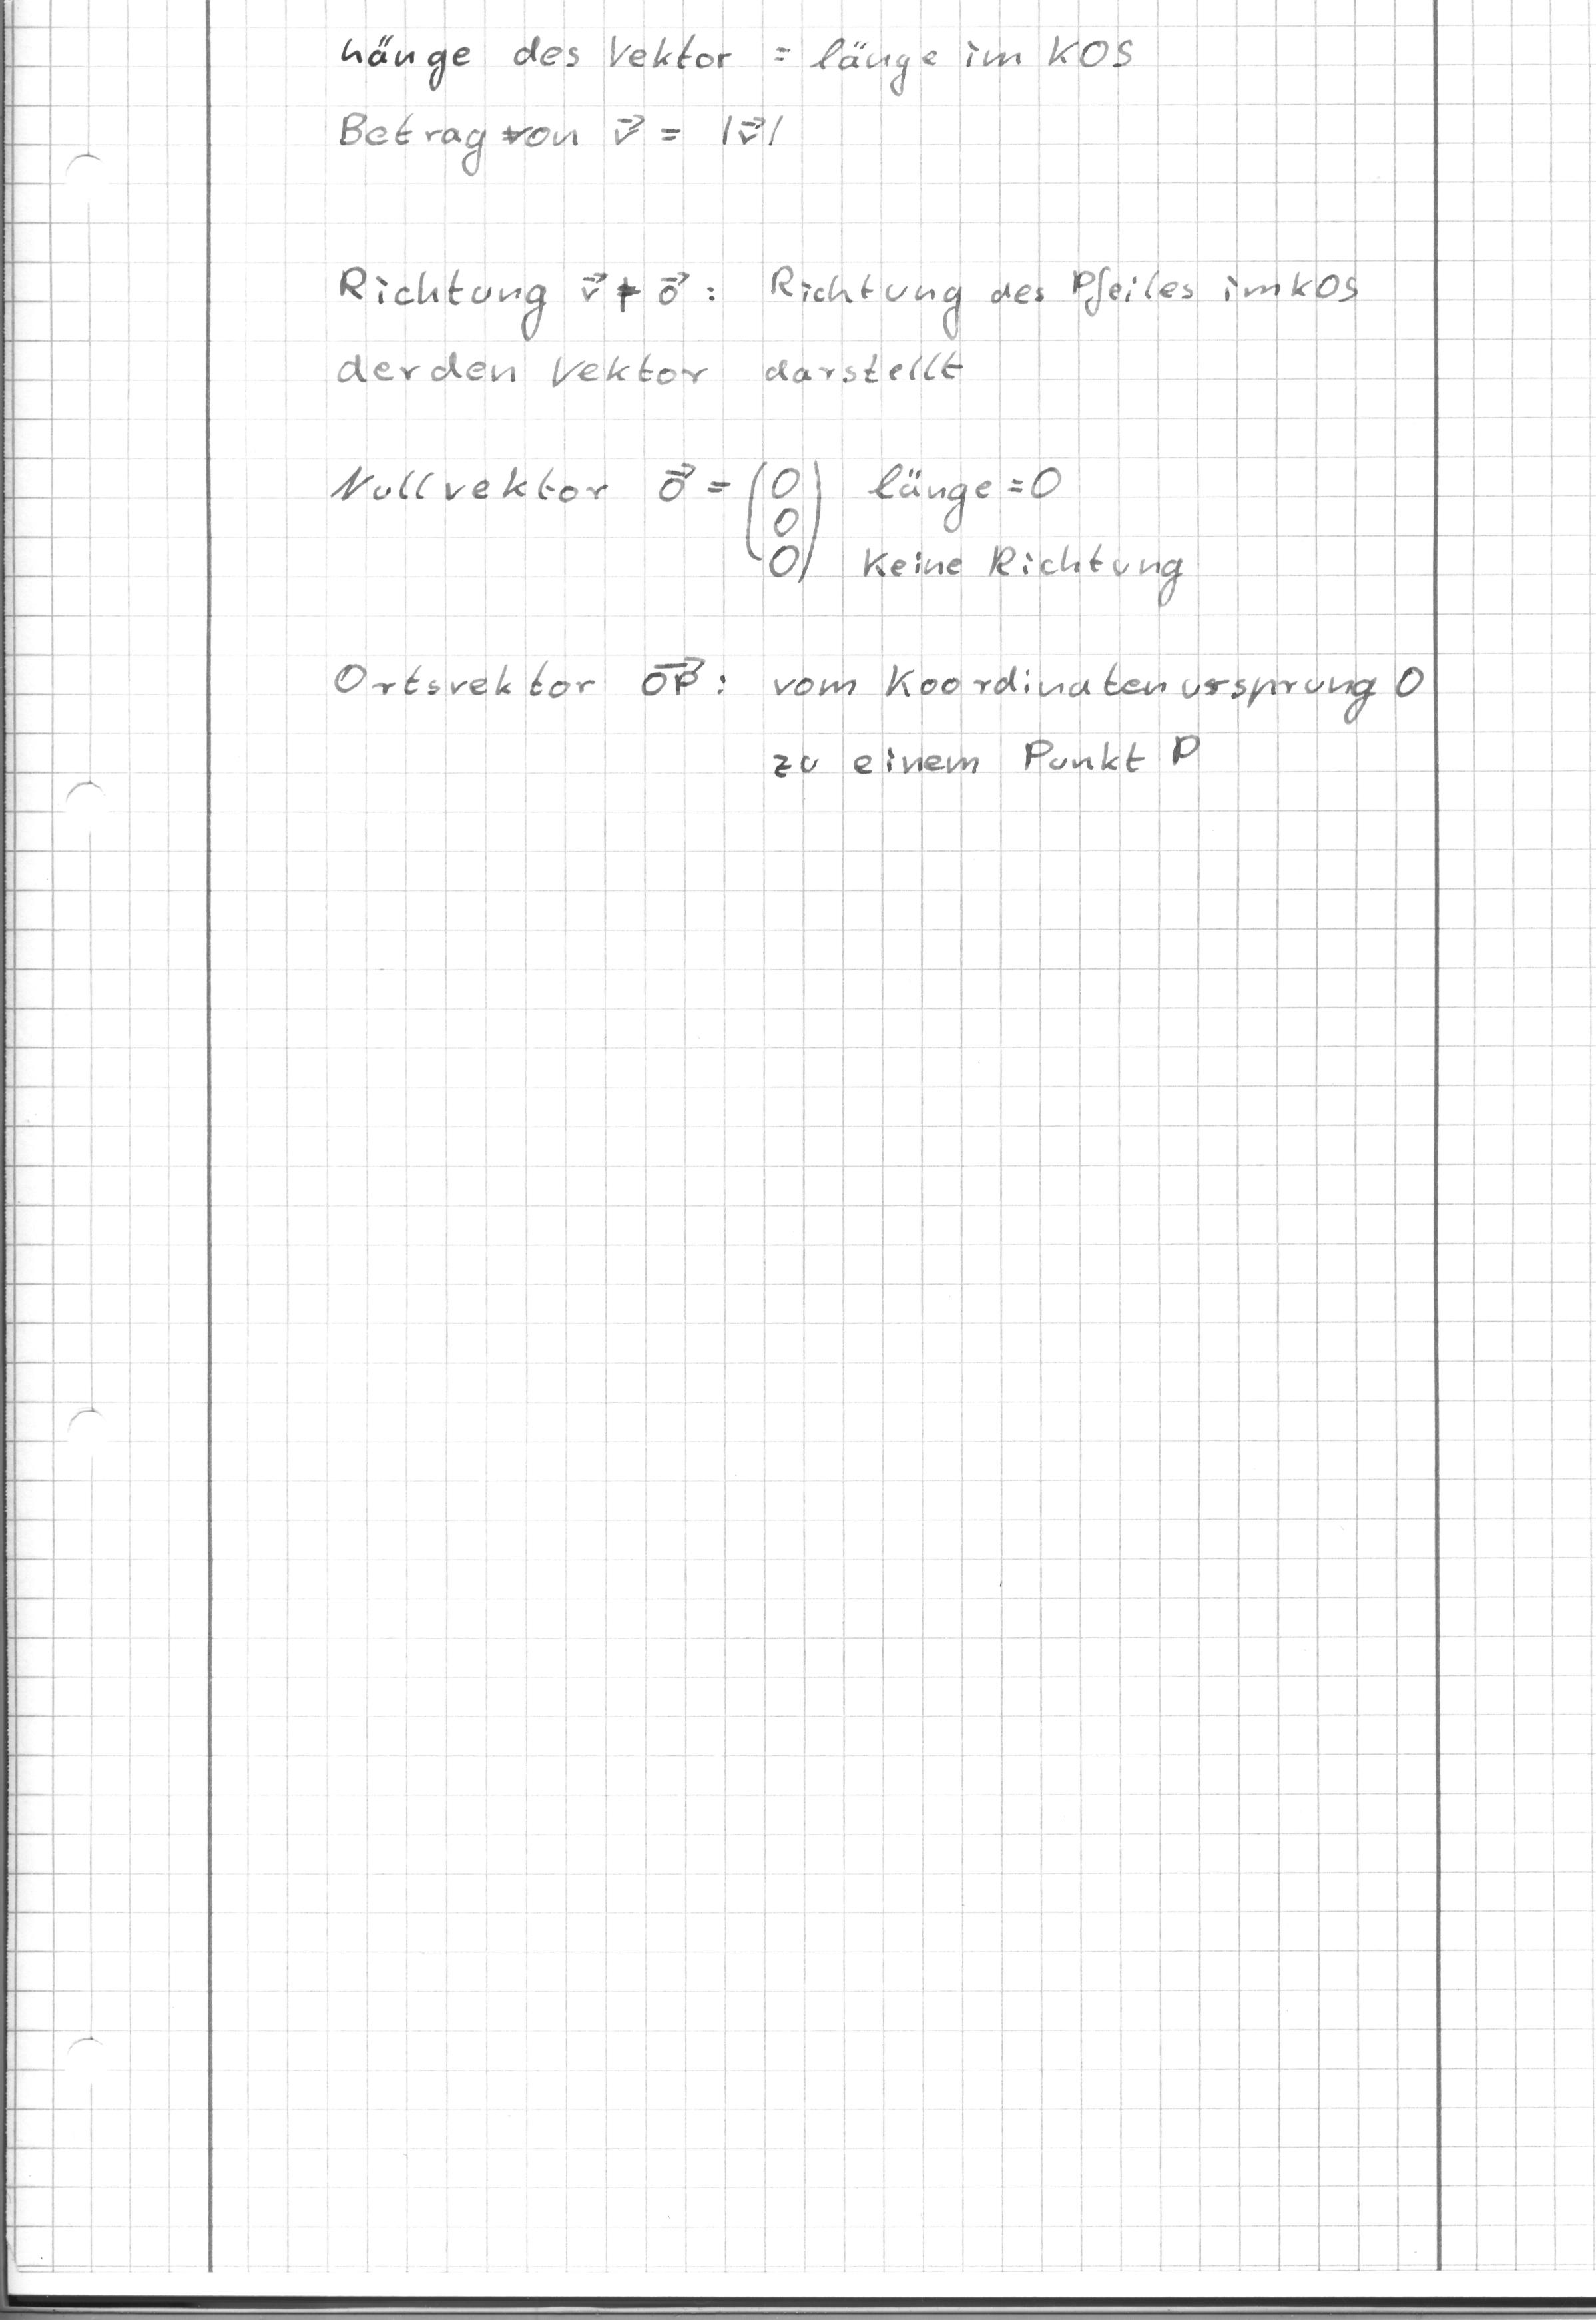word: (319, 633, 1444, 807), (323, 248, 1381, 400), (311, 440, 1189, 623), (316, 13, 1141, 188)
